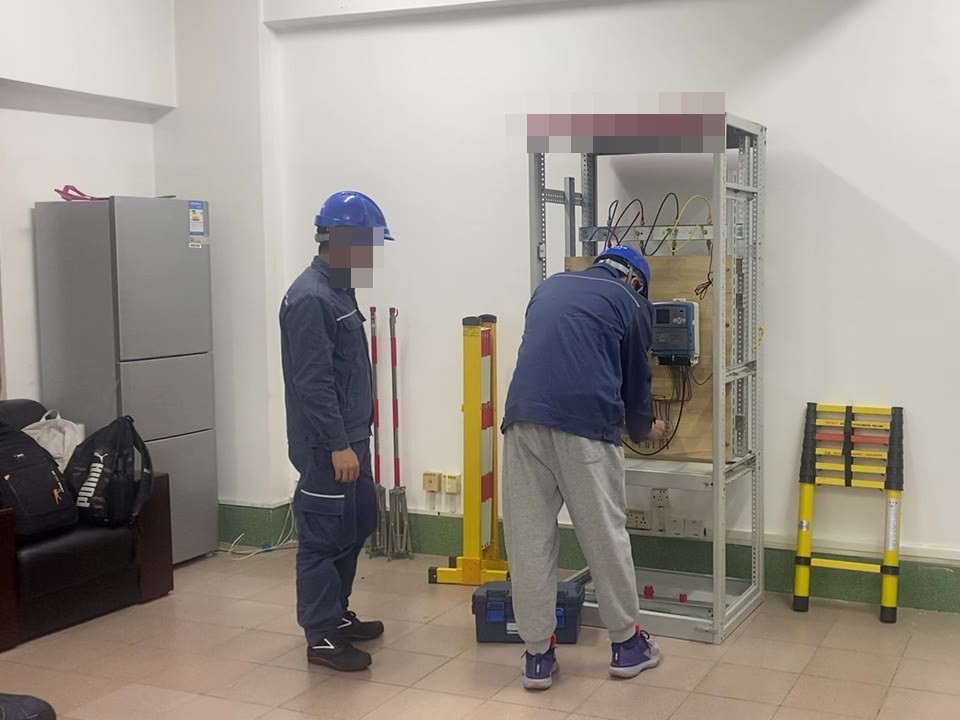downcloth: (496, 449, 642, 644)
downsuit: (289, 455, 381, 637)
halt: (311, 190, 393, 277), (593, 244, 655, 298)
hand: (331, 448, 361, 484)
inear: (327, 225, 362, 268)
person: (495, 240, 667, 672), (276, 188, 399, 668)
upsuit: (504, 268, 653, 433), (280, 270, 376, 445)
